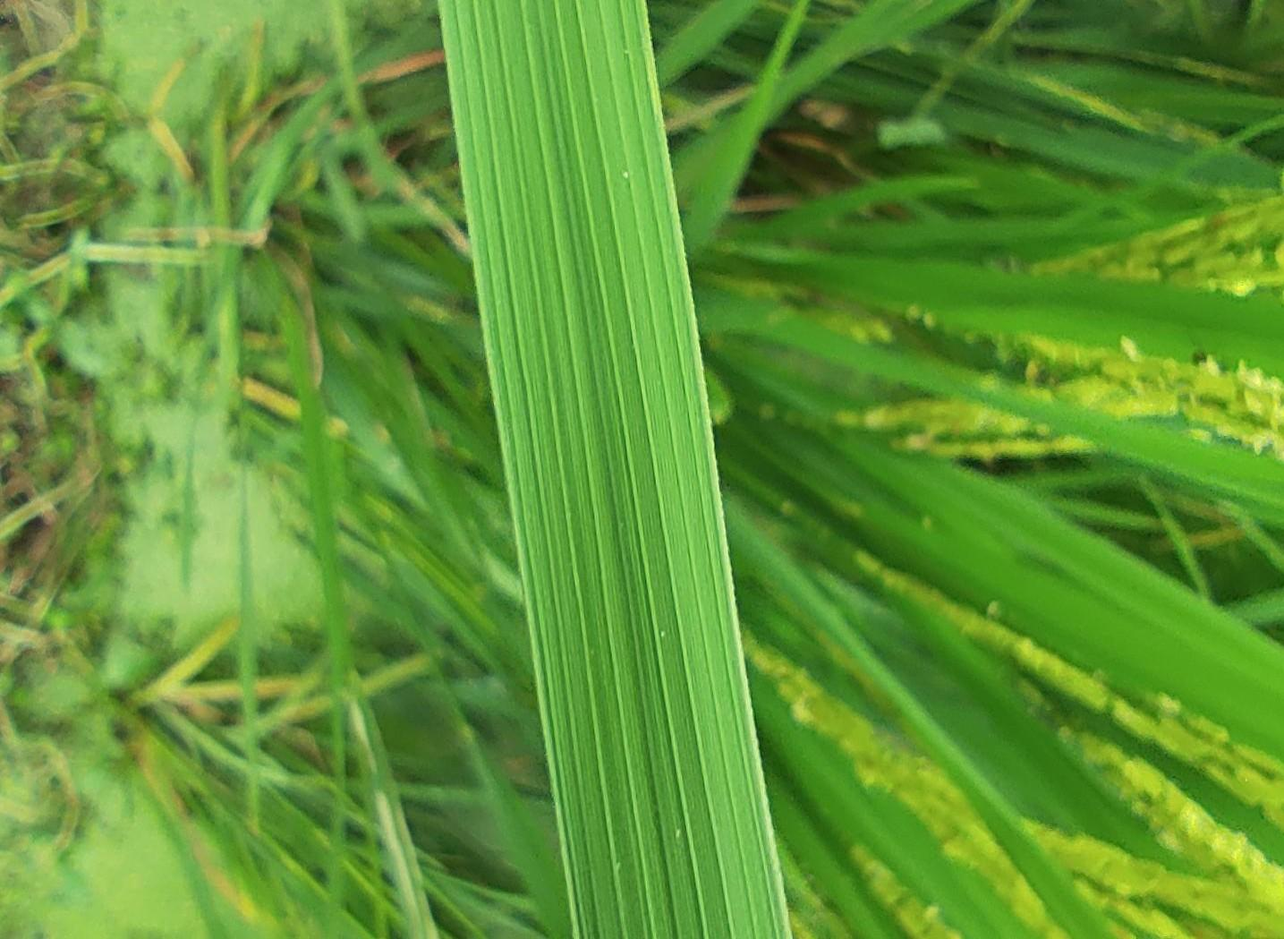Healthy: (440, 1, 789, 938)
